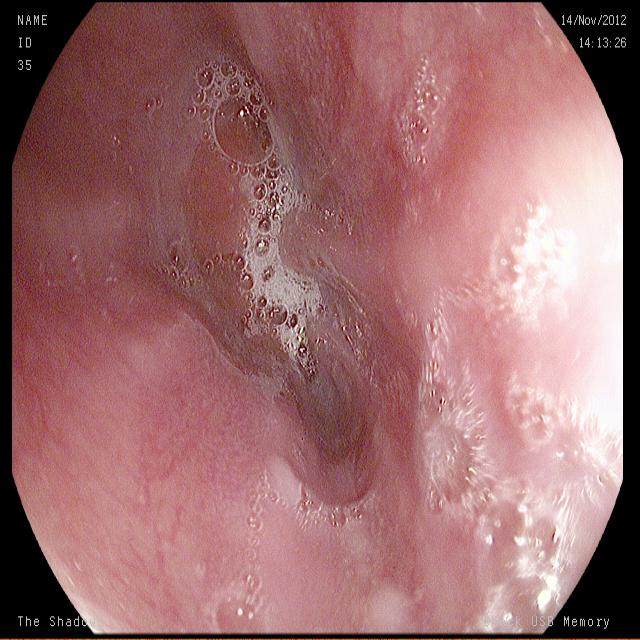Normal-Z-Line: (10, 3, 544, 497)
